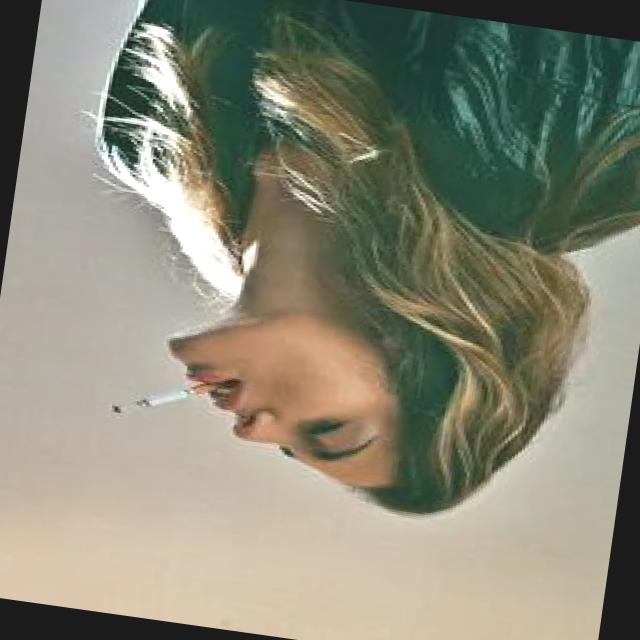cigarette: (102, 361, 235, 436)
